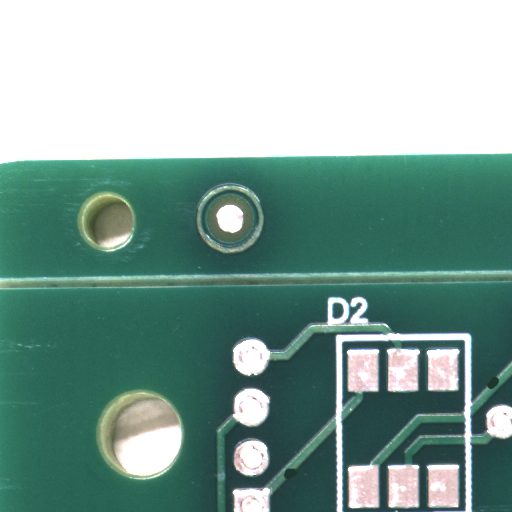Mouse_bite: (492, 383, 504, 396), (290, 474, 304, 485)
